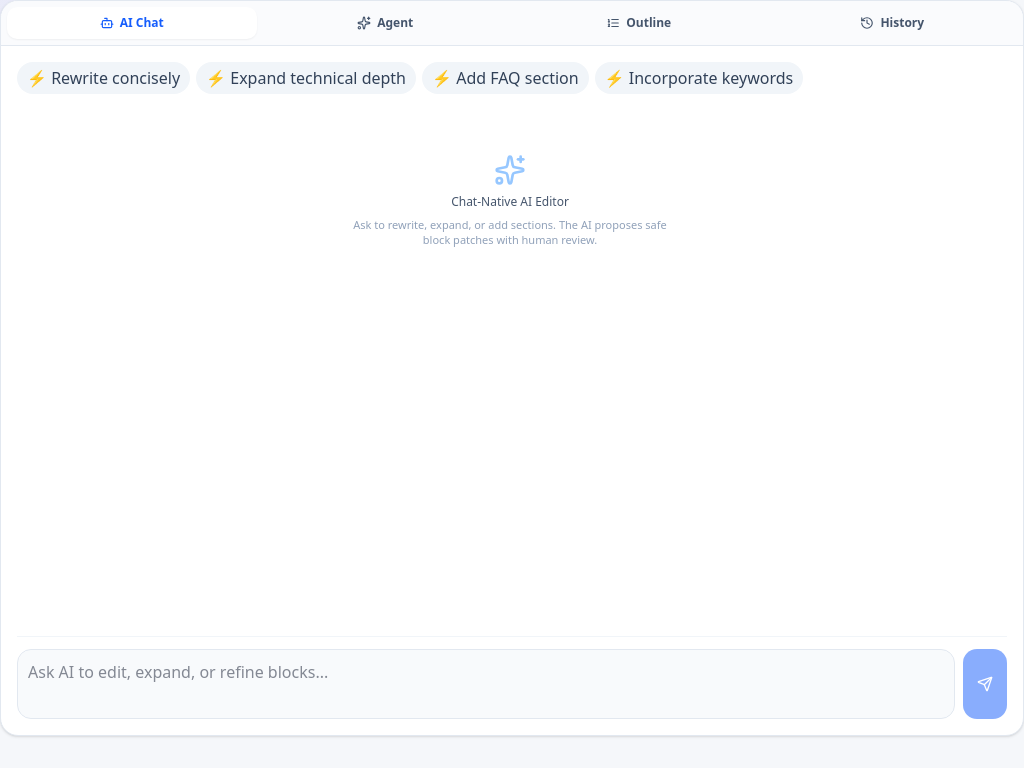
Test case: Phase 5: Chat-Native AI Content Editor › renders only the message from a legacy JSON chat envelope
Type "What SEO is added to this page?" into the text box with test id "chat-input" at (486, 684), box [17,649,955,719]
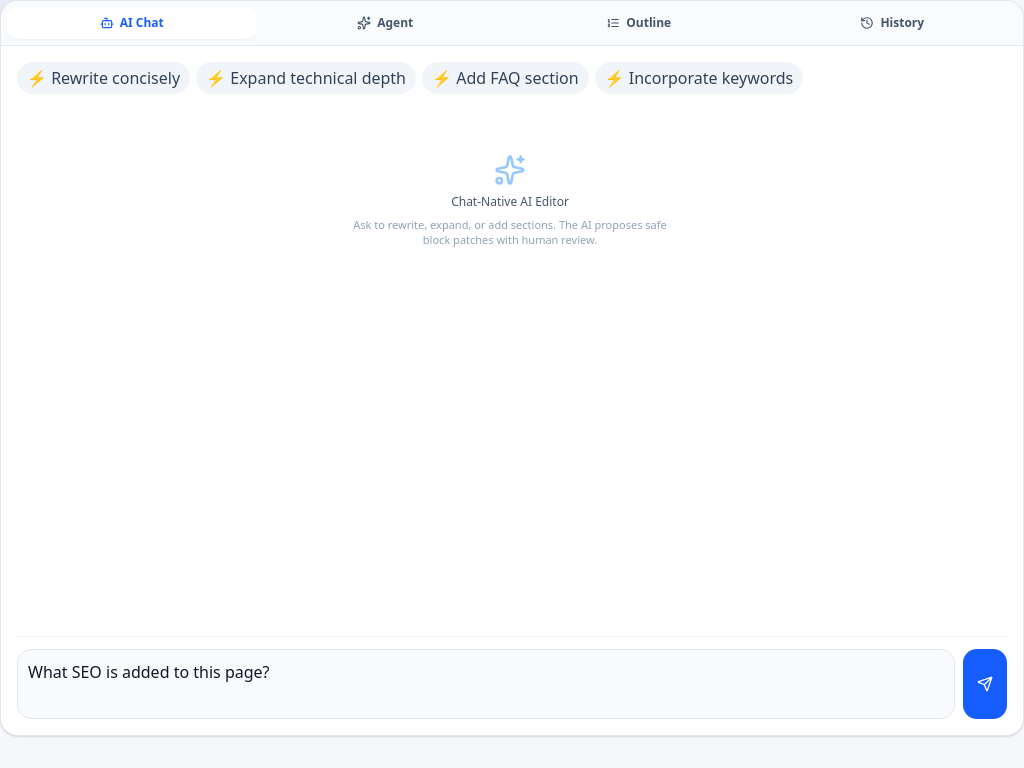
Click the button with test id "send-chat-btn" at (985, 684), box [963,649,1007,719]
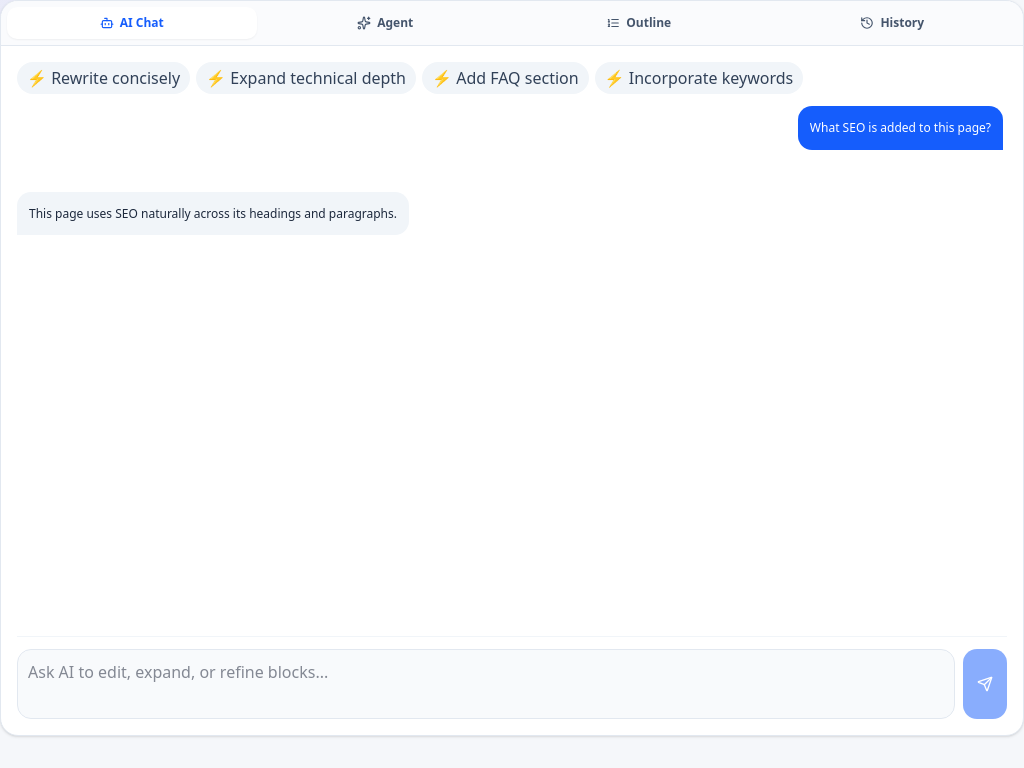
Expected: the text "This page uses SEO naturally across its headings and paragraphs." is shown, [29,204,397,223]
